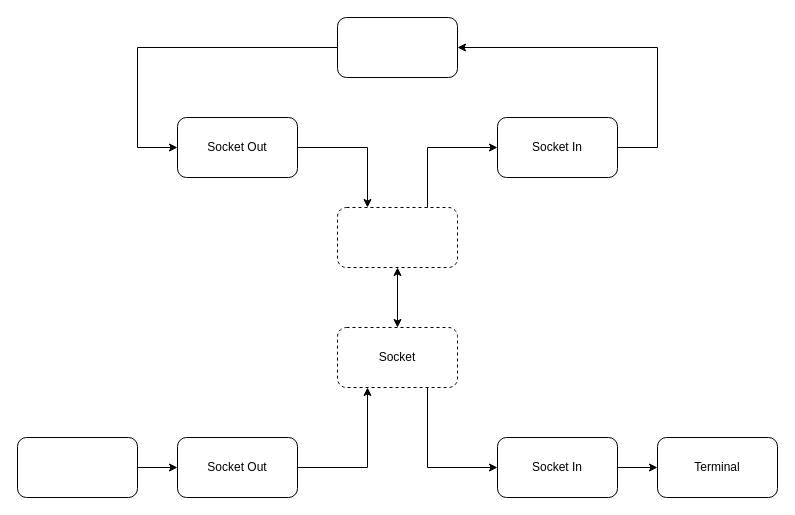
Some shapes in this 795 by 515 pixel diagram are drawn without their labels. Each missing label, with the centre of its shape:
Console: point 77,467
Echo Server: point 397,47
Server Socket: point 397,237
